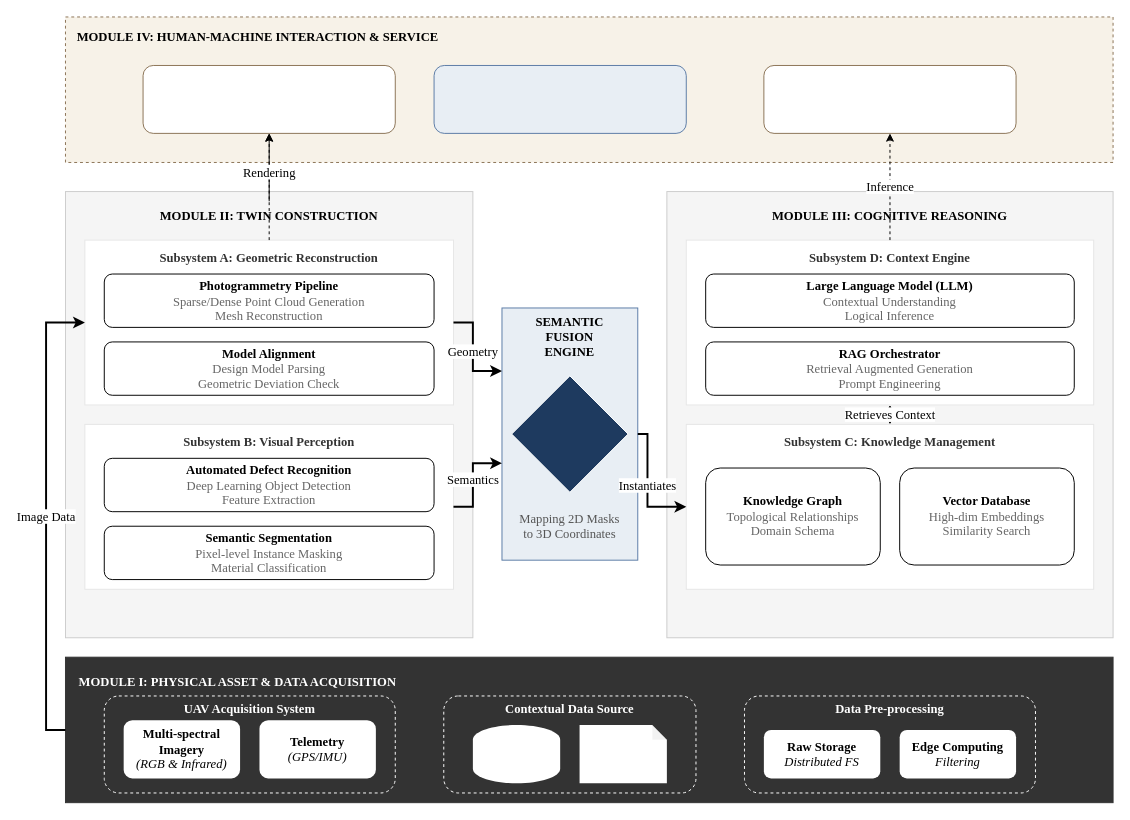
The diagram is 1130 pixels wide and 820 high, and some of its shapes have lost their labels. The shapes that lost their labels are listed below. From the top down, each one's centre as x and y in pixels, then its label:
At point (268, 99): "Immersive 3D Visualization Web-based Rendering Engine Real-time Interaction".
At point (559, 99): "Analytical Dashboard Decision Support System Statistical Charts".
At point (889, 99): "Cognitive Copilot Natural Language Interface Q&A System".
At point (569, 433): "IDP (Integrated Defect Profile)".
At point (516, 754): "Design Models (BIM/CAD)".
At point (622, 754): "Metadata (Logs)".
